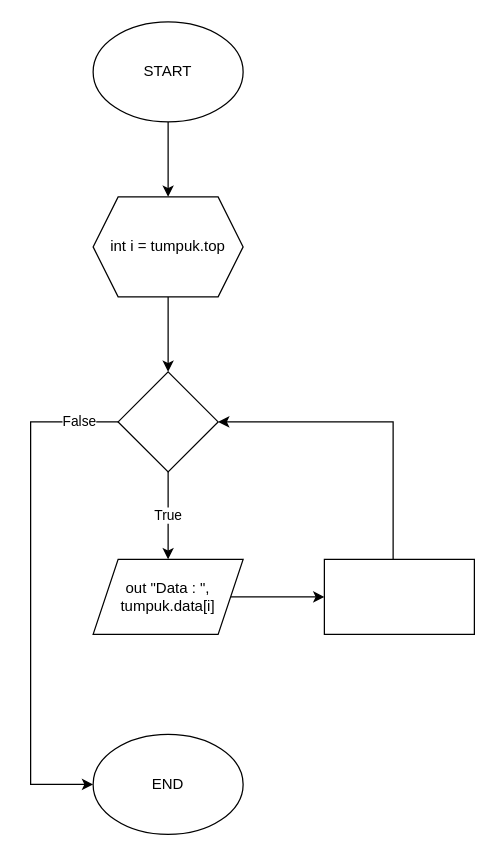
Some shapes in this 496 by 856 pixel diagram are drawn without their labels. Each missing label, with the box of its shape:
i >= 0: (117, 371, 218, 472)
i++: (323, 558, 474, 634)
